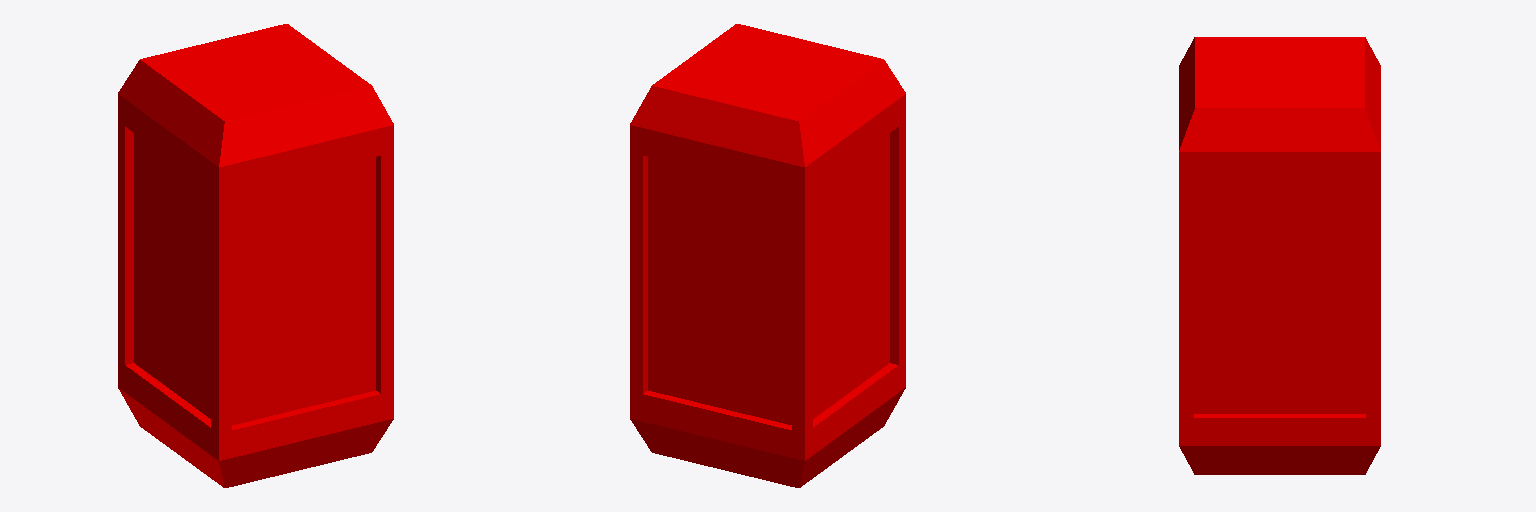
3 renders of one model, left to right at view 1: azimuth 30°, elevation 25°; view 2: azimuth 150°, elevation 25°; view 3: azimuth 270°, elevation 25°, orthographic.
Visible parts, largest first — view 1: Tile_Block_(Red)_Cube.001; view 2: Tile_Block_(Red)_Cube.001; view 3: Tile_Block_(Red)_Cube.001.
Part boxes in pixels (x1,y1,x2,y2): Tile_Block_(Red)_Cube.001: (118,24,393,487); Tile_Block_(Red)_Cube.001: (630,24,905,487); Tile_Block_(Red)_Cube.001: (1179,37,1380,474).
Size of the model in its own units: 2 by 4 by 2.
1 materials, 1 textured.